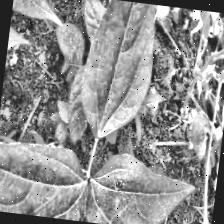ALS: (65, 0, 159, 138), (90, 150, 195, 224), (0, 131, 80, 220)
